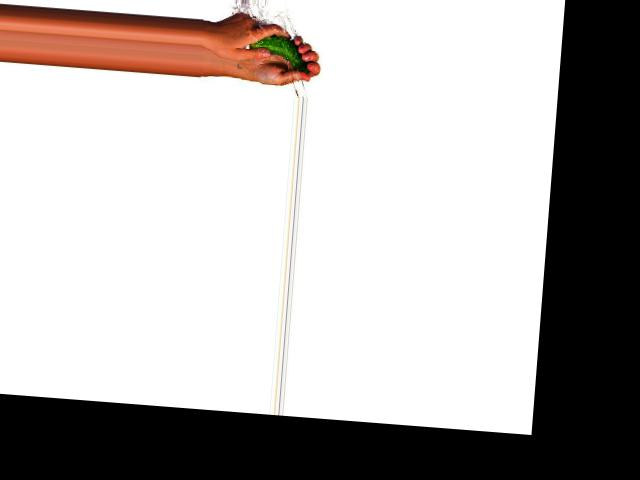cucumber: (246, 32, 311, 72)
